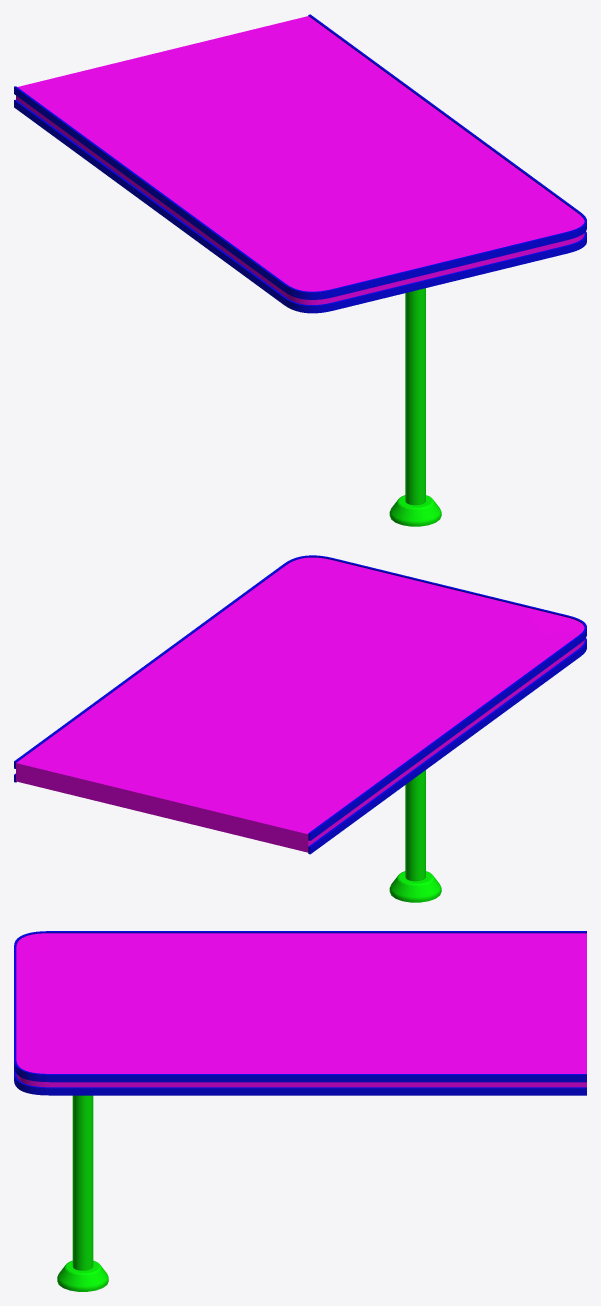
File: SM_DinerFurniture_BayTable_Large.FBX
3 renders of one model, top to bottom at view 1: azimuth 30°, elevation 25°; view 2: azimuth 150°, elevation 25°; view 3: azimuth 270°, elevation 25°, orthographic.
Visible parts, largest first — view 1: SM_DinerFurniture_BayTable_Large; view 2: SM_DinerFurniture_BayTable_Large; view 3: SM_DinerFurniture_BayTable_Large.
Part boxes in pixels (x1,y1,x2,y2): SM_DinerFurniture_BayTable_Large: (14,14,586,526); SM_DinerFurniture_BayTable_Large: (14,555,586,902); SM_DinerFurniture_BayTable_Large: (14,931,586,1291).
Bounding box in the file's own units: 101 × 91.44 × 171.
